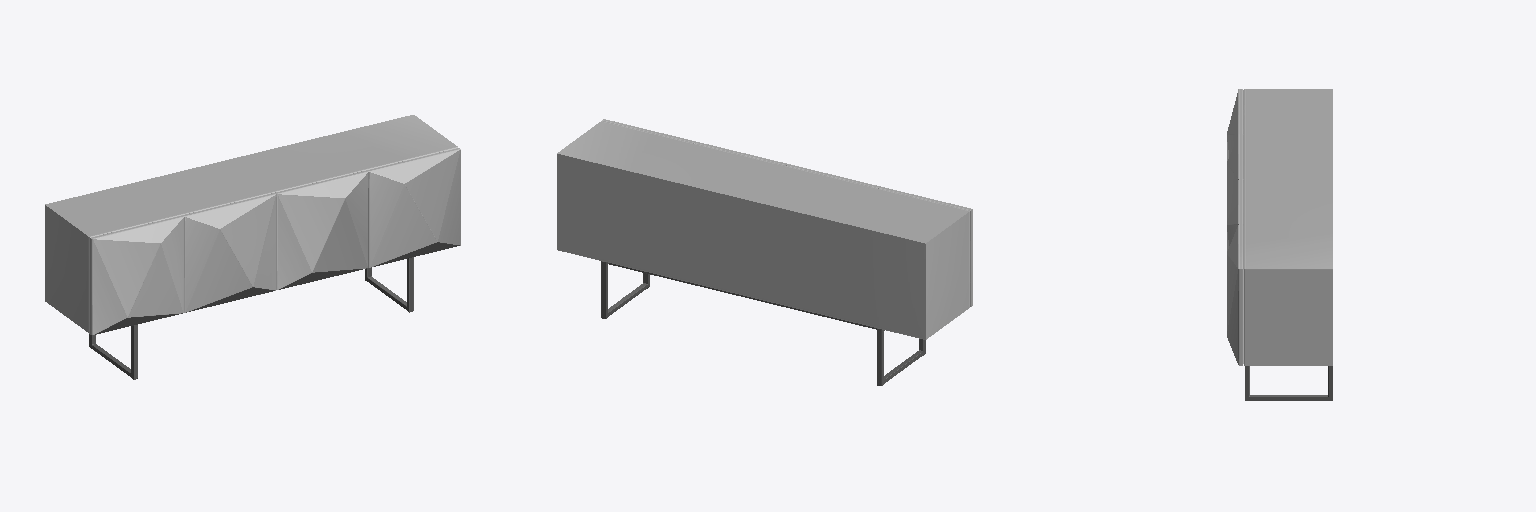
The picture shows the model from 3 angles: view 1: azimuth 30°, elevation 25°; view 2: azimuth 150°, elevation 25°; view 3: azimuth 270°, elevation 25°; orthographic projection.
Visible parts, largest first — view 1: solid_001, solid_002; view 2: solid_001, solid_002; view 3: solid_001, solid_002.
Boxes of the visible parts, x1,y1,x2,y2 form: solid_001: [45, 115, 460, 334]; solid_002: [89, 257, 413, 379]; solid_001: [557, 119, 972, 339]; solid_002: [601, 261, 925, 385]; solid_001: [1227, 89, 1332, 365]; solid_002: [1245, 366, 1332, 400].
Bounding box in the file's own units: 2 × 0.7972 × 0.5013.
Materials: 1 (1 with a texture image).